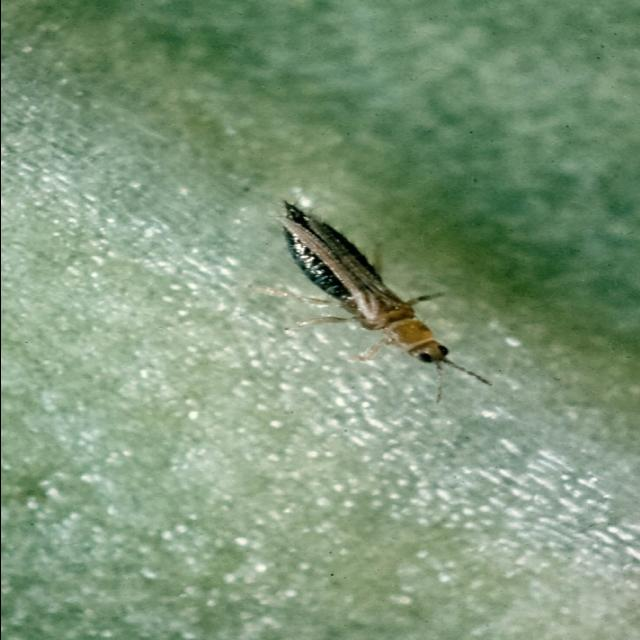thrip: (261, 193, 494, 402)
